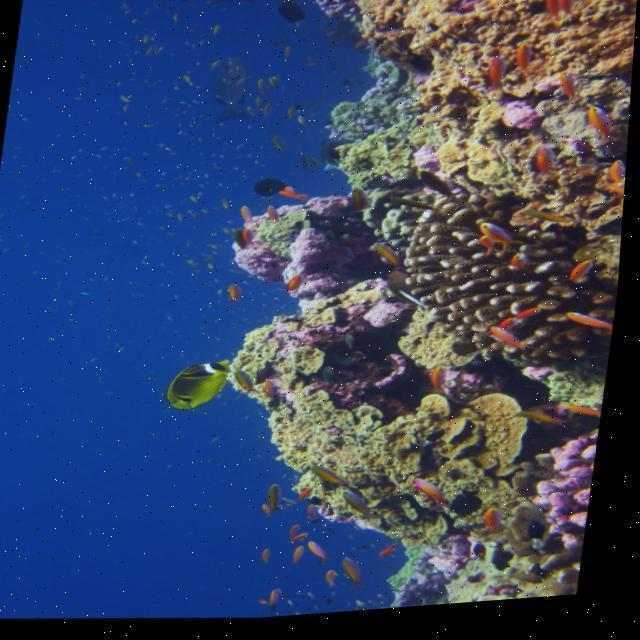Healthy Coral: (270, 0, 640, 214), (221, 383, 557, 572), (345, 186, 629, 388), (498, 419, 603, 604)
